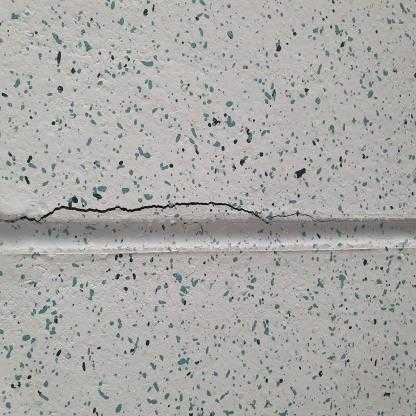crack: (19, 197, 274, 225)
